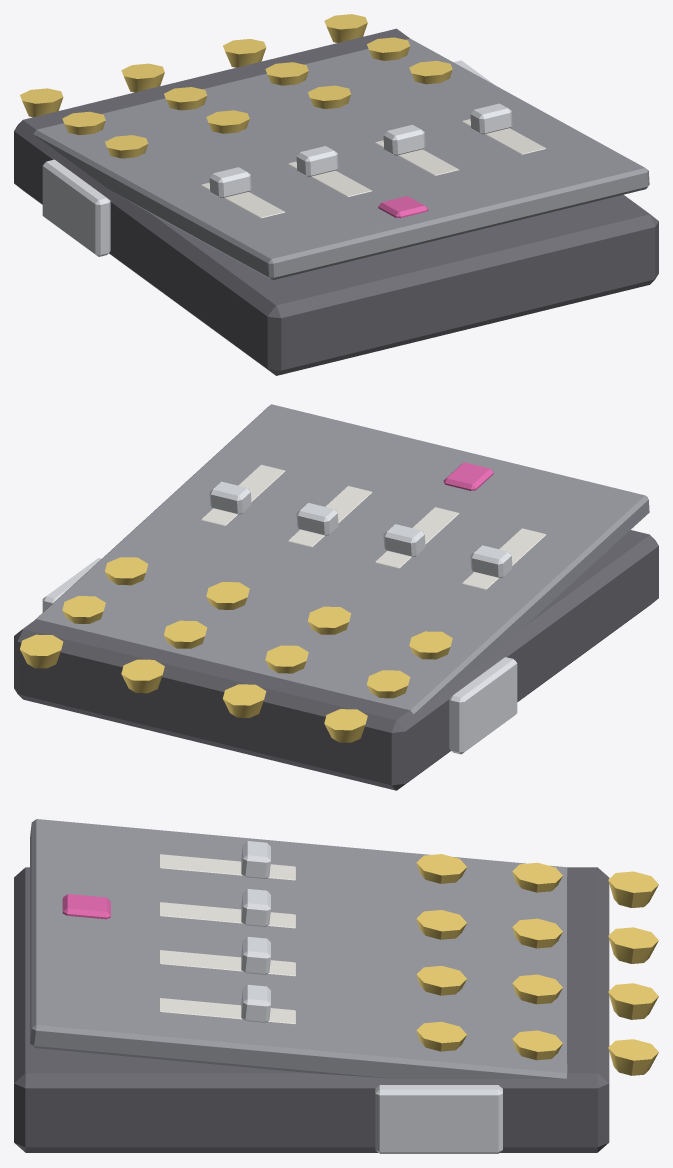
Rendered from dj-mixer.glb.
3 views of the same model, one above another, from view 1: azimuth 30°, elevation 25°; view 2: azimuth 150°, elevation 25°; view 3: azimuth 270°, elevation 25° (orthographic). The views are drawn at different scales.
Visible parts, largest first — view 1: dj-mixer; view 2: dj-mixer; view 3: dj-mixer.
Boxes of the visible parts, x1,y1,x2,y2 form: dj-mixer: [14, 14, 658, 375]; dj-mixer: [14, 404, 658, 790]; dj-mixer: [14, 819, 658, 1153].
Bounding box in the file's own units: 0.388 × 0.1018 × 0.4551.
